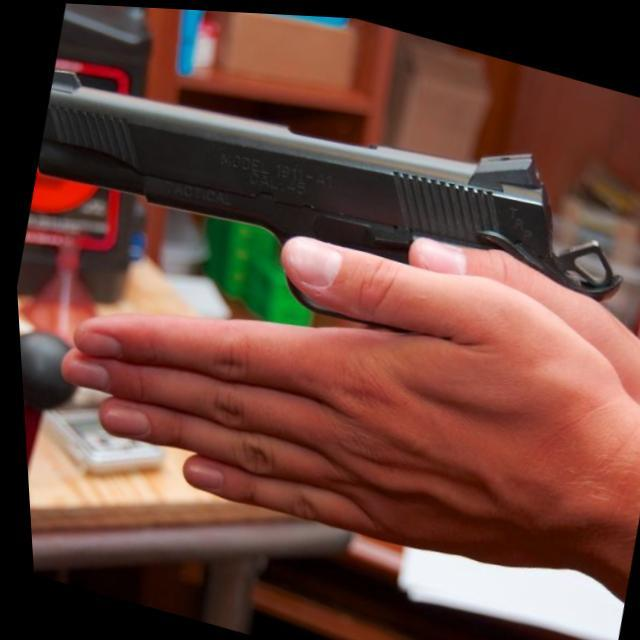weapon: (13, 18, 640, 386)
